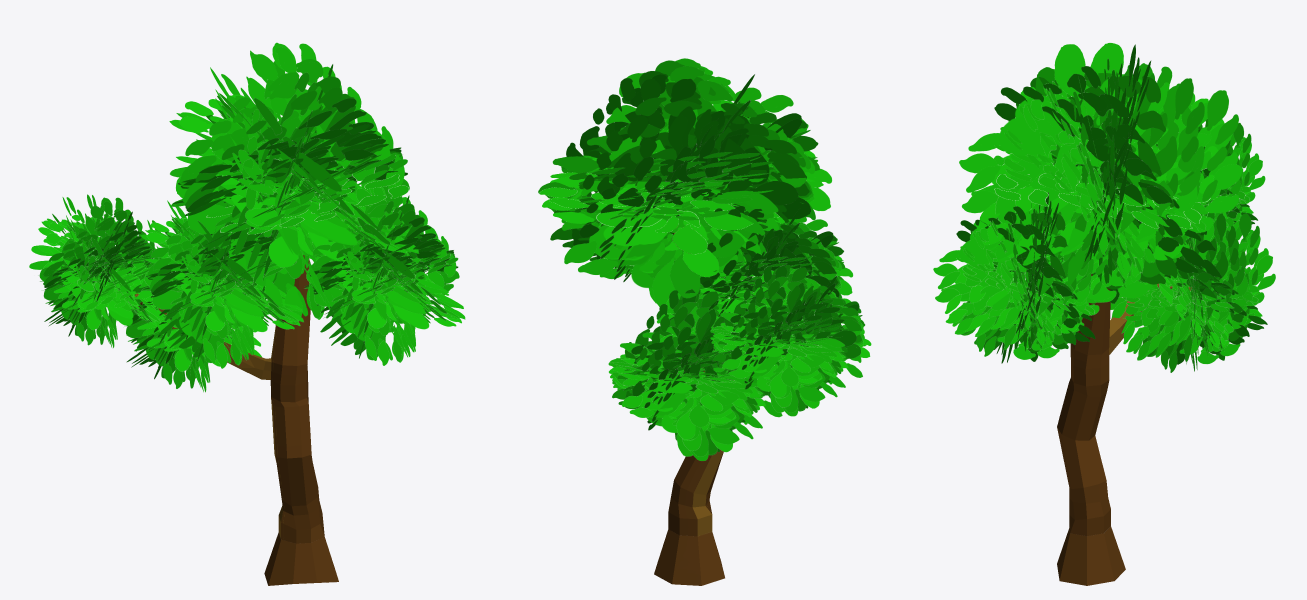
File: tree_1.glb
3 views of the same model, side by side, from view 1: azimuth 30°, elevation 25°; view 2: azimuth 150°, elevation 25°; view 3: azimuth 270°, elevation 25° (orthographic).
Parts seen in each view (by area): view 1: Cylinder, Plane.049, Plane.048, Plane.038, Plane.043, Plane.042, Plane.051, Plane.084, Plane.039, Plane.037, Plane.047, Plane.053 (+47 smaller); view 2: Plane.051, Cylinder, Plane.037, Plane.053, Plane.040, Plane.043, Plane.049, Plane.046, Plane.052, Plane.038, Plane.041, Plane.015 (+43 smaller); view 3: Cylinder, Plane.036, Plane.051, Plane.044, Plane.040, Plane.042, Plane.041, Plane.050, Plane.039, Plane.045, Plane.072, Plane.015 (+37 smaller).
Part boxes in pixels (left/top/right/bottom): Cylinder: left=134, top=226, right=338, bottom=585; Plane.049: left=179, top=59, right=409, bottom=309; Plane.048: left=185, top=76, right=401, bottom=299; Plane.038: left=188, top=47, right=393, bottom=319; Plane.043: left=175, top=42, right=404, bottom=324; Plane.042: left=169, top=112, right=418, bottom=253; Plane.051: left=210, top=50, right=334, bottom=311; Plane.084: left=312, top=203, right=454, bottom=354; Plane.039: left=179, top=94, right=349, bottom=267; Plane.037: left=173, top=122, right=407, bottom=215; Plane.047: left=186, top=98, right=401, bottom=235; Plane.053: left=170, top=157, right=408, bottom=234; Plane.051: left=572, top=109, right=802, bottom=245; Cylinder: left=654, top=226, right=733, bottom=585; Plane.037: left=561, top=67, right=806, bottom=313; Plane.053: left=539, top=152, right=823, bottom=254; Plane.040: left=562, top=72, right=808, bottom=287; Plane.043: left=583, top=78, right=798, bottom=205; Plane.049: left=587, top=71, right=809, bottom=235; Plane.046: left=570, top=66, right=831, bottom=313; Plane.052: left=542, top=151, right=815, bottom=277; Plane.038: left=566, top=74, right=810, bottom=219; Plane.041: left=550, top=97, right=818, bottom=247; Plane.015: left=625, top=306, right=728, bottom=397; Cylinder: left=1057, top=246, right=1192, bottom=585; Plane.036: left=961, top=44, right=1237, bottom=298; Plane.051: left=1035, top=65, right=1238, bottom=277; Plane.044: left=959, top=42, right=1243, bottom=300; Plane.040: left=994, top=83, right=1206, bottom=273; Plane.042: left=988, top=93, right=1211, bottom=265; Plane.041: left=1016, top=73, right=1183, bottom=289; Plane.050: left=976, top=87, right=1224, bottom=260; Plane.039: left=1025, top=63, right=1200, bottom=294; Plane.045: left=1067, top=66, right=1182, bottom=303; Plane.072: left=935, top=196, right=1108, bottom=358; Plane.015: left=1142, top=213, right=1259, bottom=359.
Size of the model in its own units: 13.59 by 18.77 by 11.75.
2 materials, 2 textured.
